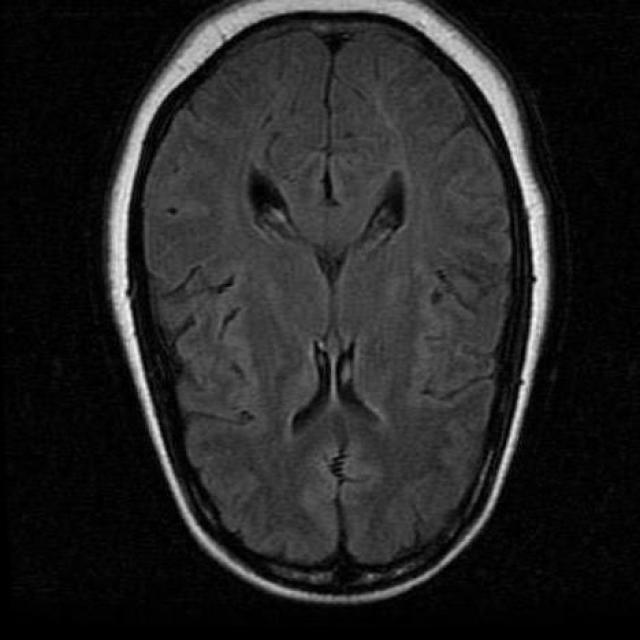notumor: (107, 0, 551, 604)
